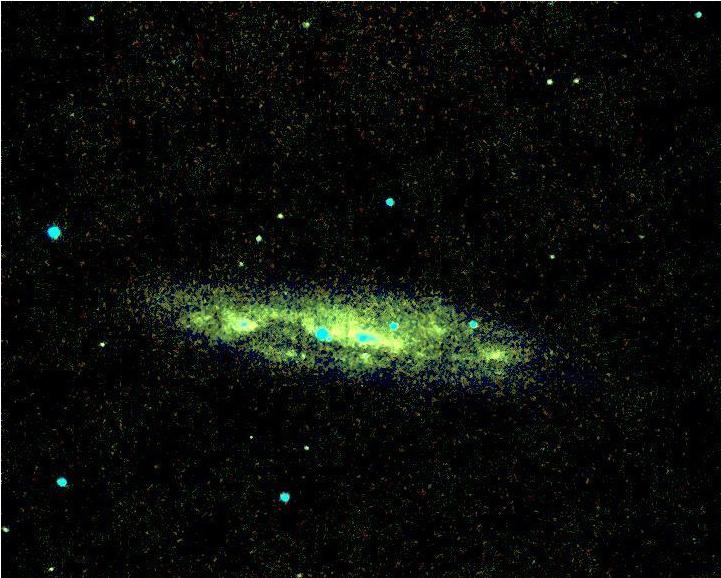star: (237, 417, 267, 447)
